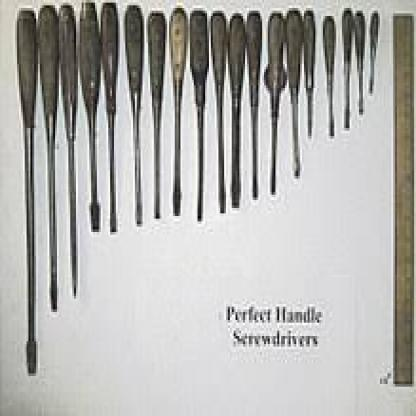Screw Driver: (15, 7, 42, 379), (37, 2, 62, 312), (56, 1, 82, 298), (76, 1, 105, 238), (97, 0, 120, 240)
